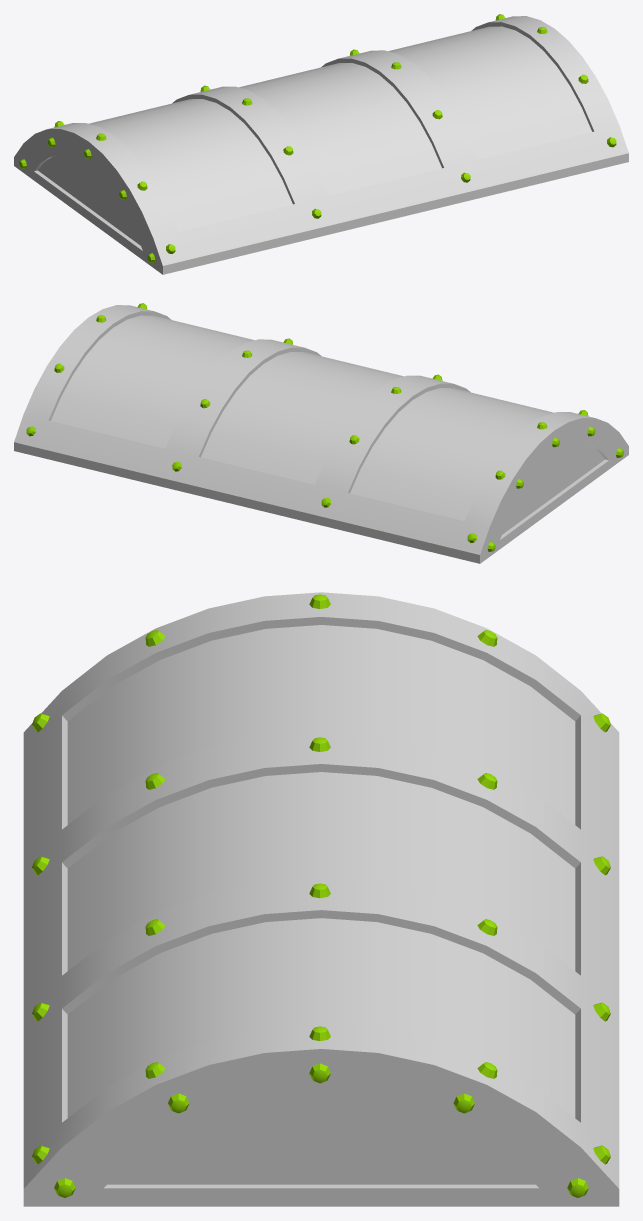
The model's file is Chest_01_Door.fbx.
3 renders of one model, top to bottom at view 1: azimuth 30°, elevation 25°; view 2: azimuth 150°, elevation 25°; view 3: azimuth 270°, elevation 25°, orthographic. The views are drawn at different scales.
Parts seen in each view (by area): view 1: Chest_01_Door; view 2: Chest_01_Door; view 3: Chest_01_Door.
Boxes of the visible parts, bbox=[...] form: Chest_01_Door: bbox=[14, 14, 628, 274]; Chest_01_Door: bbox=[14, 303, 628, 563]; Chest_01_Door: bbox=[23, 592, 619, 1206].
Size of the model in its own units: 0.9822 by 0.1671 by 0.5325.
